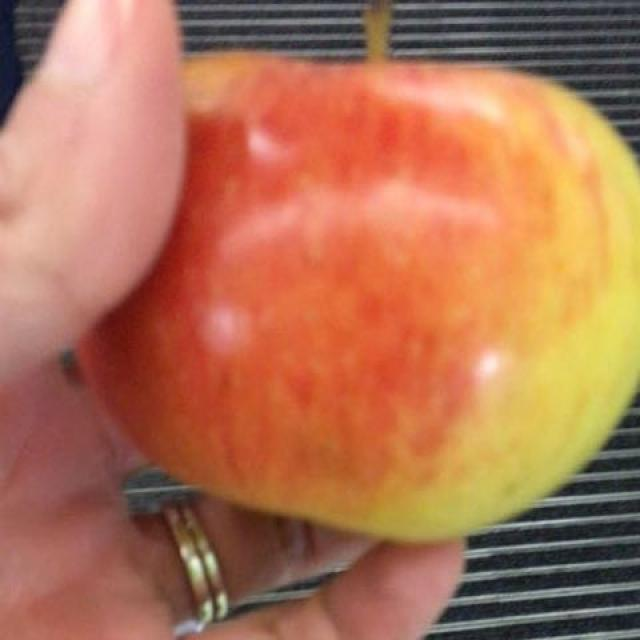apple: (97, 77, 633, 531)
